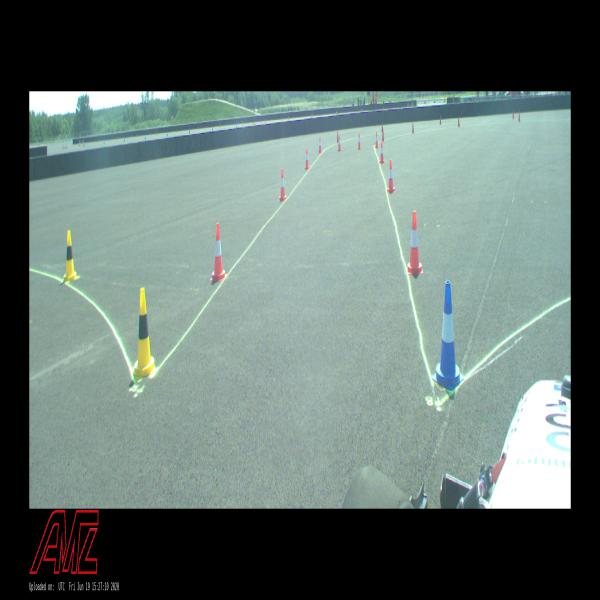blue_cone: (432, 280, 464, 390)
orange_cone: (407, 211, 423, 274), (210, 223, 226, 281), (279, 168, 287, 201), (387, 160, 395, 192), (305, 148, 310, 169), (380, 141, 384, 163), (318, 136, 322, 153), (375, 132, 379, 148), (338, 135, 341, 151), (358, 133, 361, 149)
unknown_cone: (382, 129, 384, 142), (336, 131, 338, 143), (412, 122, 414, 133), (458, 118, 460, 128), (518, 113, 520, 122)
yellow_cone: (133, 288, 156, 379), (64, 231, 77, 282)
